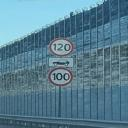speed_limit_100: (47, 67, 76, 88)
speed_limit_120: (48, 34, 75, 56)
